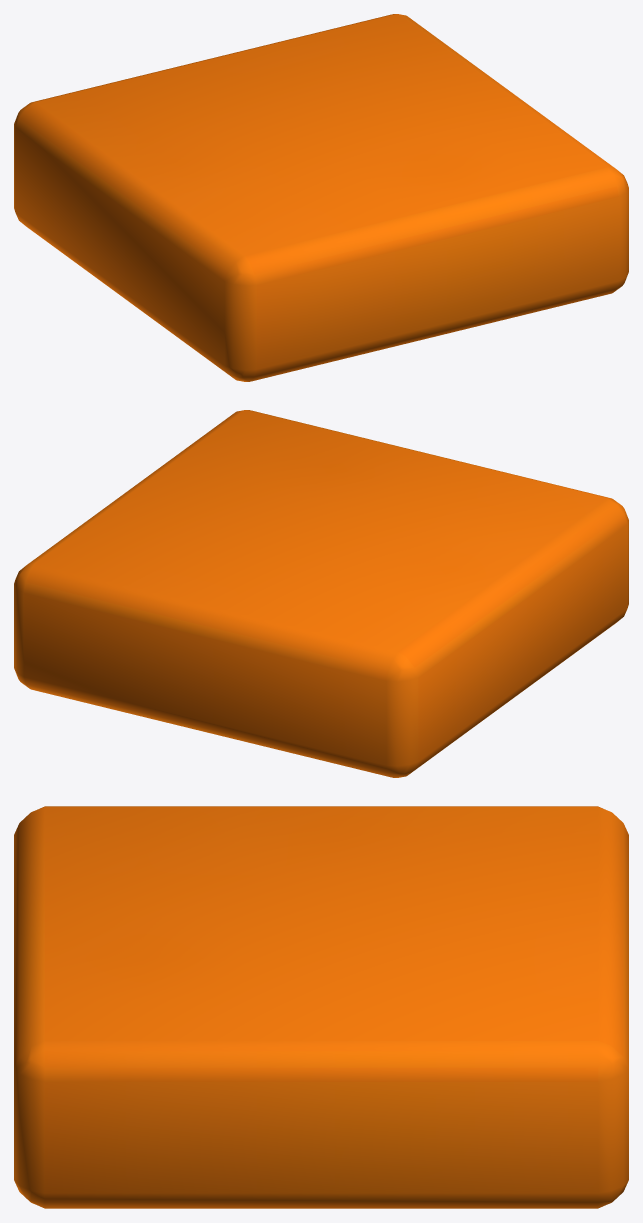
File: SquareBlockYellow.fbx
3 views of the same model, one above another, from view 1: azimuth 30°, elevation 25°; view 2: azimuth 150°, elevation 25°; view 3: azimuth 270°, elevation 25° (orthographic). The views are drawn at different scales.
Parts seen in each view (by area): view 1: SquareBlock; view 2: SquareBlock; view 3: SquareBlock.
Boxes of the visible parts, bbox=[...] form: SquareBlock: bbox=[14, 14, 628, 381]; SquareBlock: bbox=[14, 410, 628, 777]; SquareBlock: bbox=[14, 806, 628, 1208].
Bounding box in the file's own units: 4 × 1.2 × 4.
